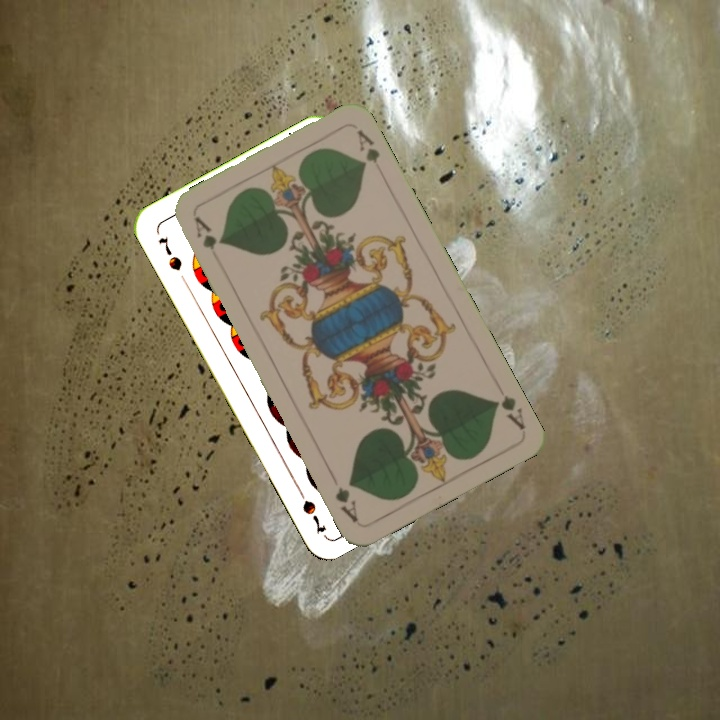GA: (191, 212, 222, 268), (488, 390, 528, 433)
S7: (154, 233, 185, 274)
